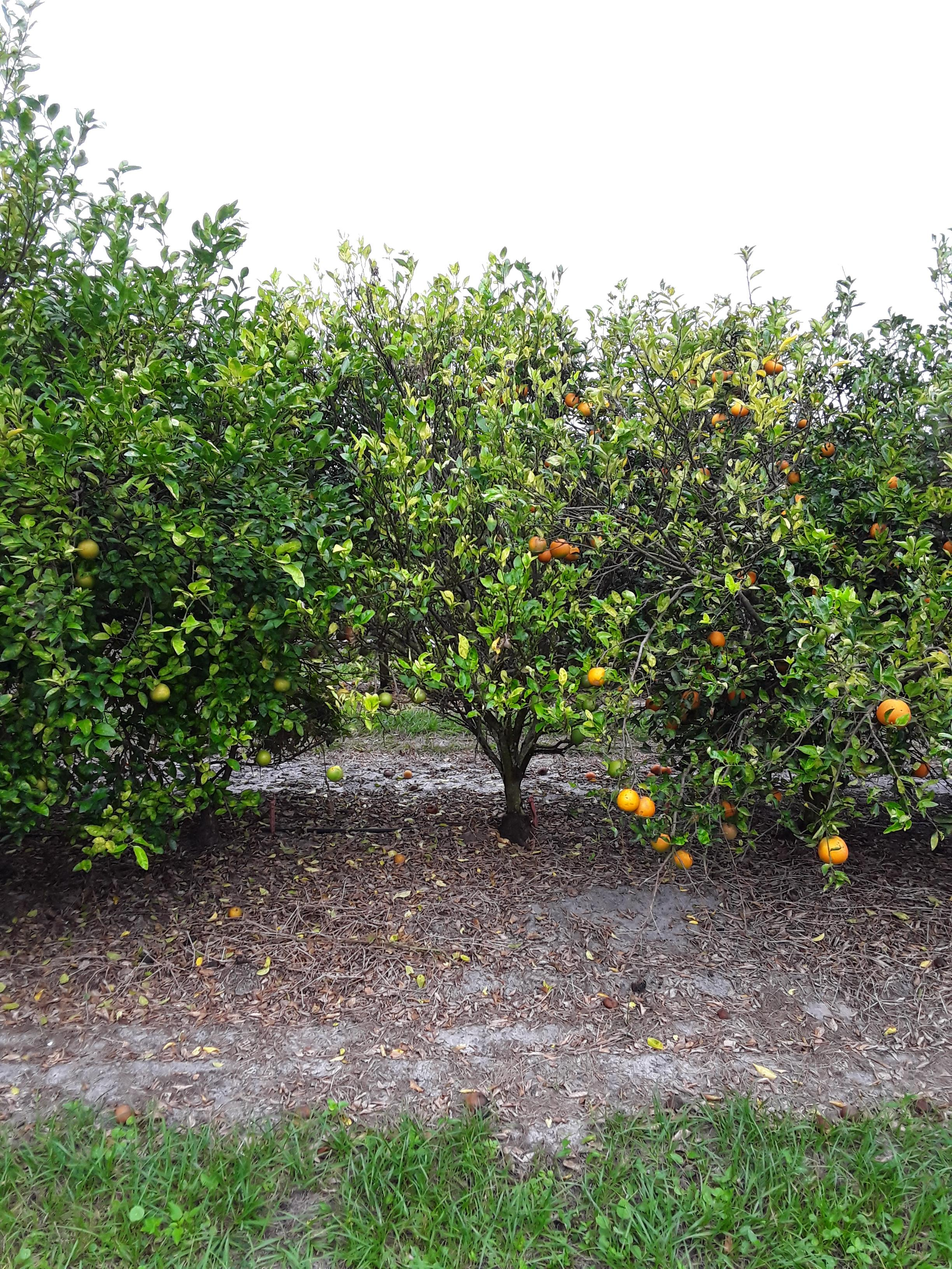fruit_on_ground: (874, 696, 912, 728), (816, 833, 851, 866), (72, 565, 100, 591), (74, 535, 102, 561), (146, 679, 174, 705), (677, 686, 703, 713), (616, 786, 640, 812), (733, 565, 760, 588), (635, 793, 658, 818), (714, 798, 738, 821), (586, 665, 609, 688), (648, 462, 671, 485), (670, 848, 694, 870), (766, 785, 789, 807), (824, 537, 847, 559), (910, 758, 933, 780), (548, 536, 570, 559), (271, 674, 294, 696), (560, 542, 582, 564), (882, 470, 904, 492), (650, 831, 672, 853), (527, 534, 549, 556), (586, 424, 609, 445), (643, 692, 666, 713), (762, 355, 785, 376), (606, 757, 628, 778), (726, 683, 748, 704), (709, 409, 730, 431), (718, 821, 741, 841), (867, 520, 890, 540), (540, 454, 563, 474), (334, 621, 356, 641), (772, 655, 794, 675), (305, 641, 326, 661), (376, 689, 396, 710), (324, 763, 345, 783), (707, 628, 728, 648), (567, 725, 587, 745), (849, 760, 869, 780), (491, 388, 512, 407), (408, 686, 428, 705), (817, 439, 837, 458), (661, 715, 682, 733), (730, 400, 751, 418), (685, 809, 707, 826), (514, 380, 533, 399), (254, 748, 273, 767), (708, 367, 728, 385), (918, 591, 937, 609), (588, 532, 607, 550), (576, 400, 594, 419), (560, 389, 579, 407), (718, 366, 737, 383), (791, 489, 810, 506), (830, 356, 850, 372), (695, 464, 712, 482), (537, 547, 555, 564), (793, 414, 810, 431), (786, 469, 803, 486), (939, 536, 952, 557), (473, 381, 489, 397), (526, 502, 544, 516), (775, 457, 791, 472)
fruit_on_tree: (831, 1101, 864, 1127), (111, 1101, 136, 1127), (810, 1110, 836, 1134), (462, 1088, 488, 1112), (910, 1093, 935, 1117), (663, 1092, 688, 1113), (293, 1102, 313, 1121), (598, 992, 619, 1010), (226, 903, 245, 921), (714, 1005, 732, 1021), (649, 762, 665, 776), (393, 851, 408, 865), (658, 764, 674, 776), (584, 769, 598, 782), (425, 803, 440, 815), (401, 768, 414, 781), (382, 767, 396, 778), (536, 766, 549, 777), (408, 783, 419, 792), (646, 771, 656, 779)
